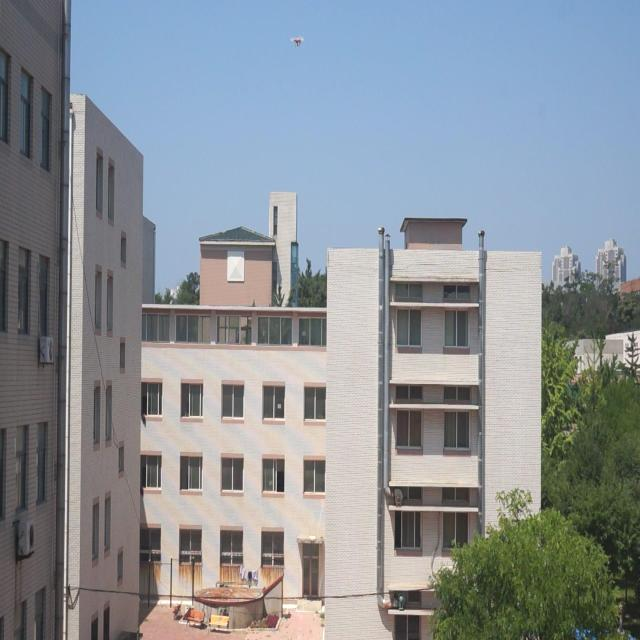drone: (291, 32, 305, 52)
